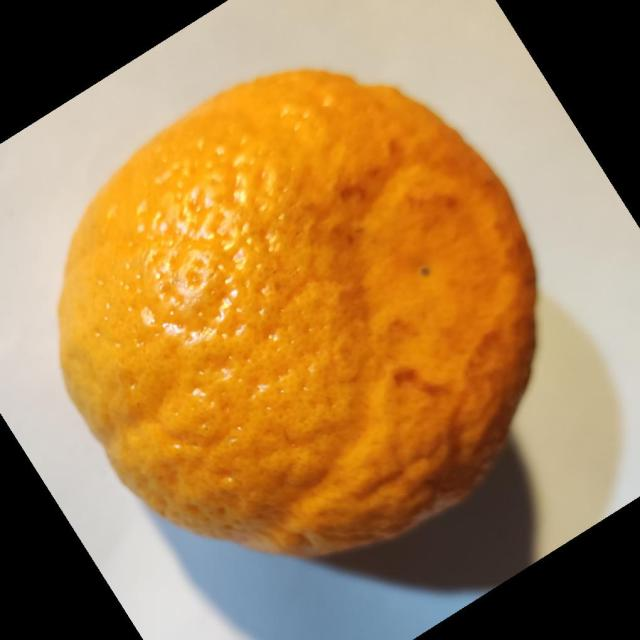fresh orange: (56, 66, 539, 559)
